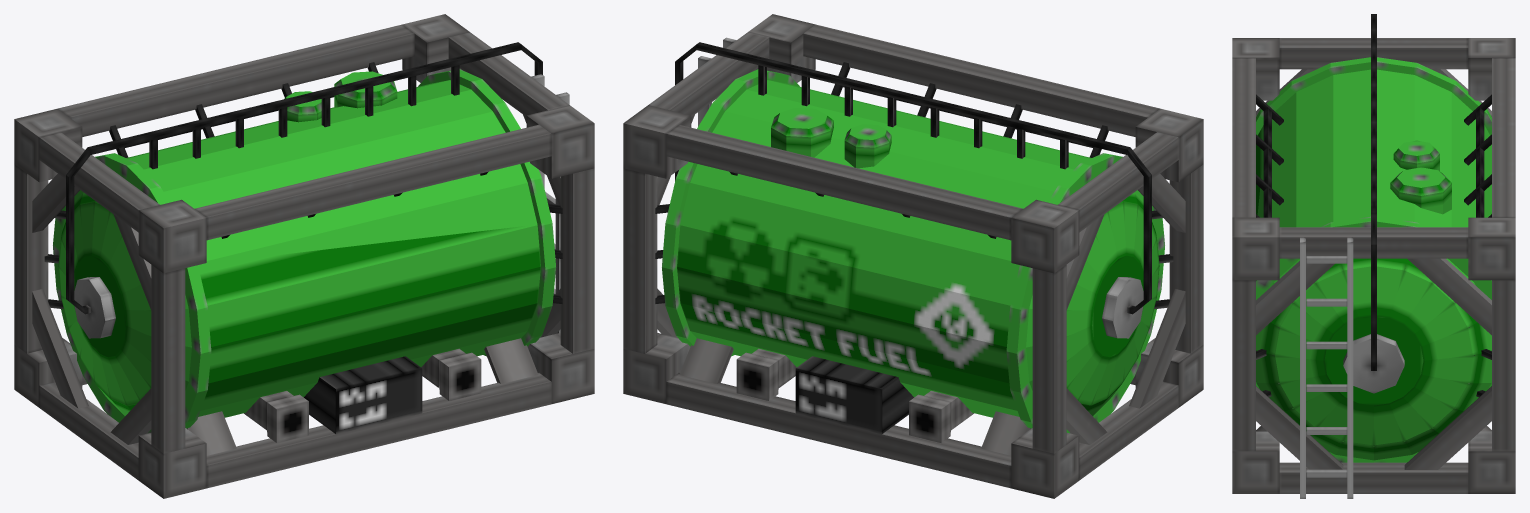
File: balefire_tank.obj
3 renders of one model, left to right at view 1: azimuth 30°, elevation 25°; view 2: azimuth 150°, elevation 25°; view 3: azimuth 270°, elevation 25°, orthographic. The views are drawn at different scales.
Visible parts, largest first — view 1: Frame; view 2: Frame; view 3: Frame.
Boxes of the visible parts, x1,y1,x2,y2 form: Frame: [14, 14, 594, 498]; Frame: [623, 14, 1203, 498]; Frame: [1232, 14, 1515, 498].
Size of the model in its own units: 5.5 by 3.28 by 3.
